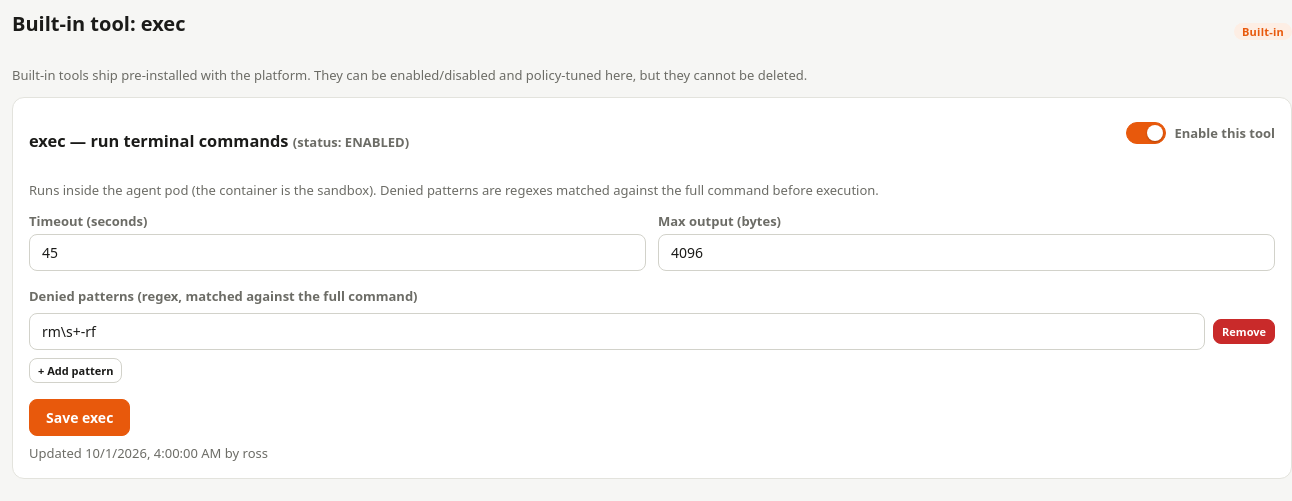
Scenario: BuiltinToolConfig load states › saves through apiPatch with the built payload and overlays the result
What coordinates should you click on to do the following:
click the switch named "Enable exec"
I would click on:
 (1146, 133)
Its box is [1126,122,1166,144].
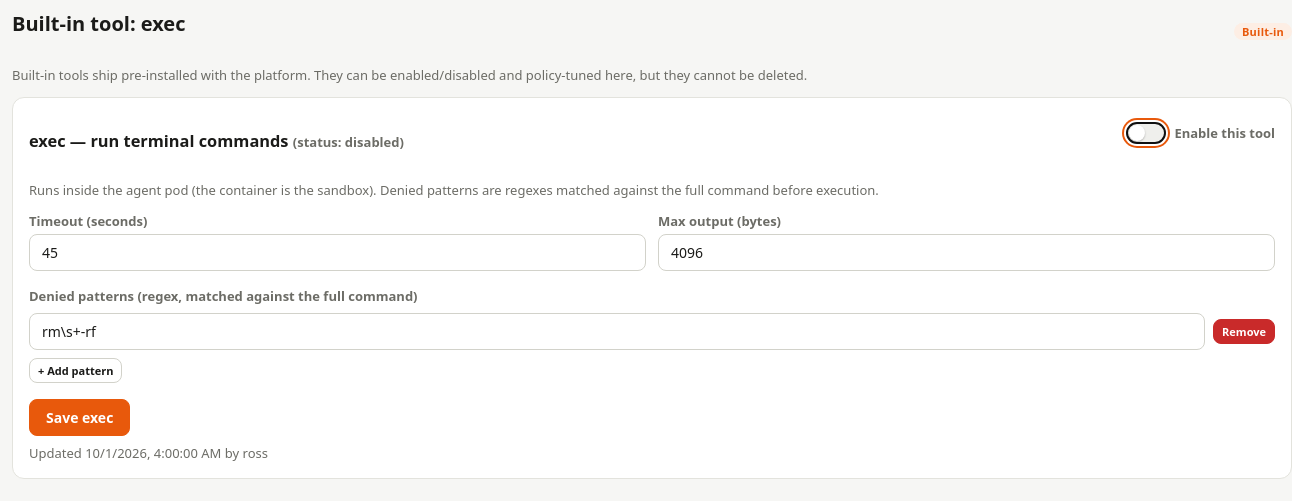
What coordinates should you click on to do the following:
click the button "Save exec"
I would click on:
 (80, 417)
Its box is [29,399,130,436].
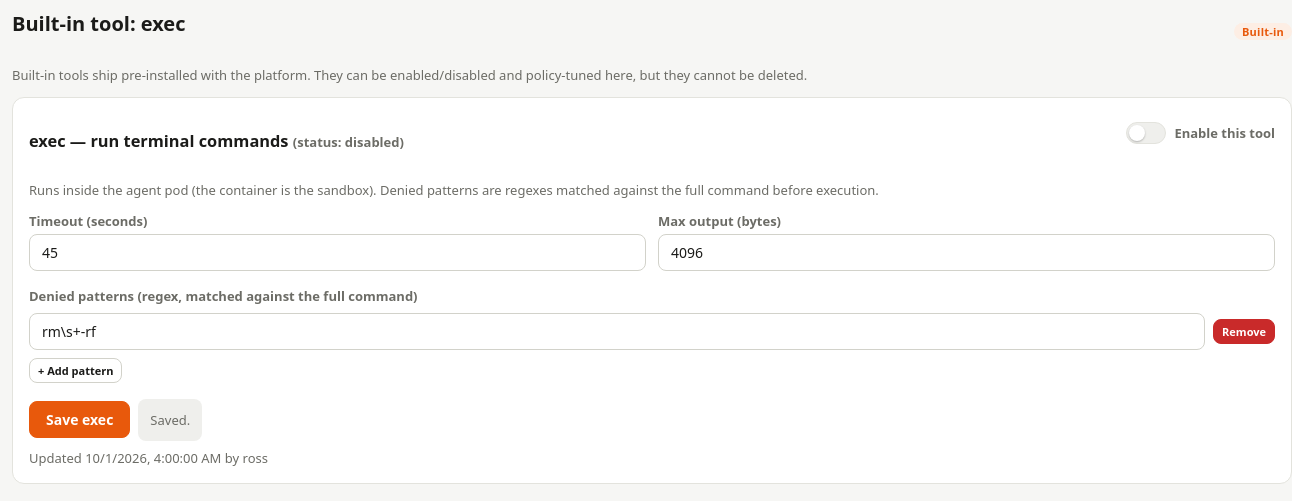
Now the text "(status: disabled)" is shown, box [293,133,404,151]
Now the text "Saved." is shown, box [138,399,202,441]
